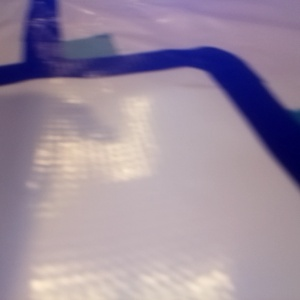bottom_left: (243, 43, 300, 80)
bottom_right: (59, 94, 186, 159)
